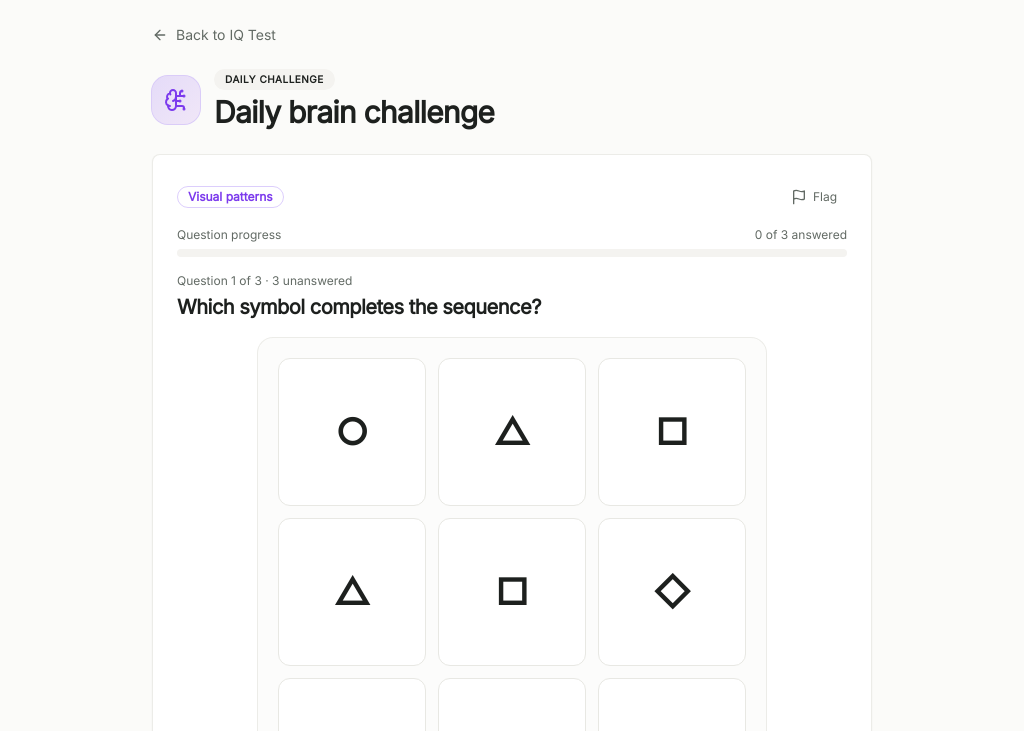
BrainIQTest page › starts the assessment, allows selecting options, flagging, and completing
The width and height of the screenshot is (1024, 731).
Earlier steps of the test are not shown.
Check: the heading "Which symbol completes the sequence?" is shown, box [177, 295, 541, 319]
Check: the text "Question progress" is shown, box [177, 227, 281, 243]
# Flag question for review
Click the button "Flag" at x=814, y=197, box [781, 179, 847, 215]
(page scrolled)
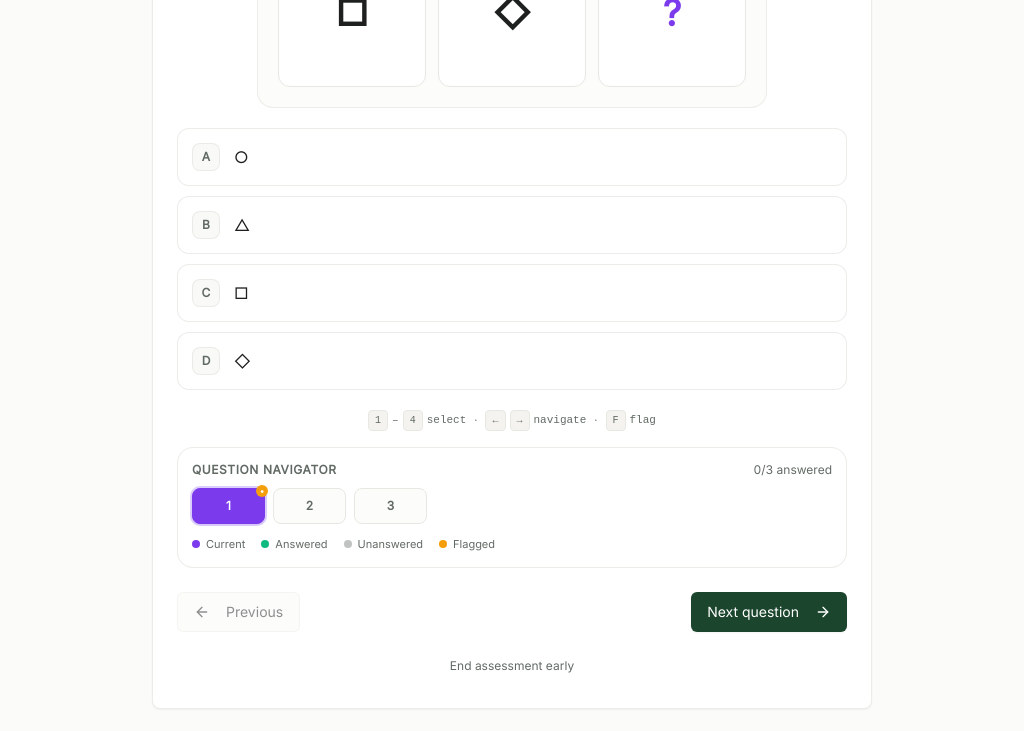
# Select option D (diamond: index 3)
Click the button "D ◇" at x=206, y=361, box [177, 332, 847, 390]
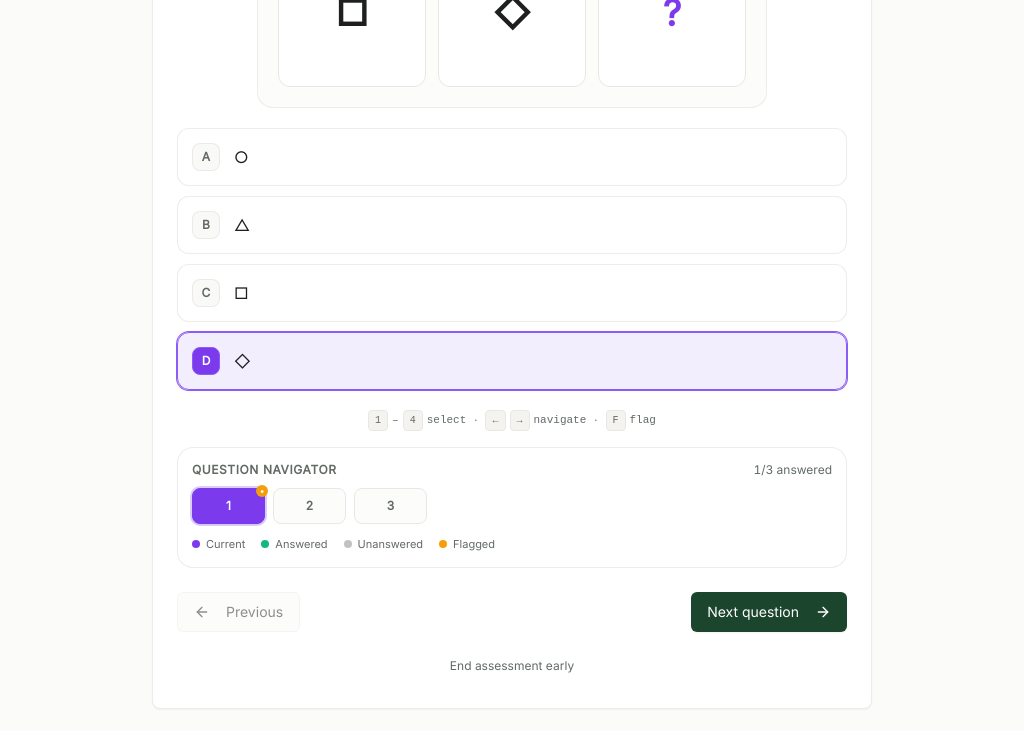
Check: the button "D ◇" is pressed, box [177, 332, 847, 390]
# Advance to next question
Click the button "Next question" at x=769, y=612, box [691, 592, 847, 632]
(page scrolled)
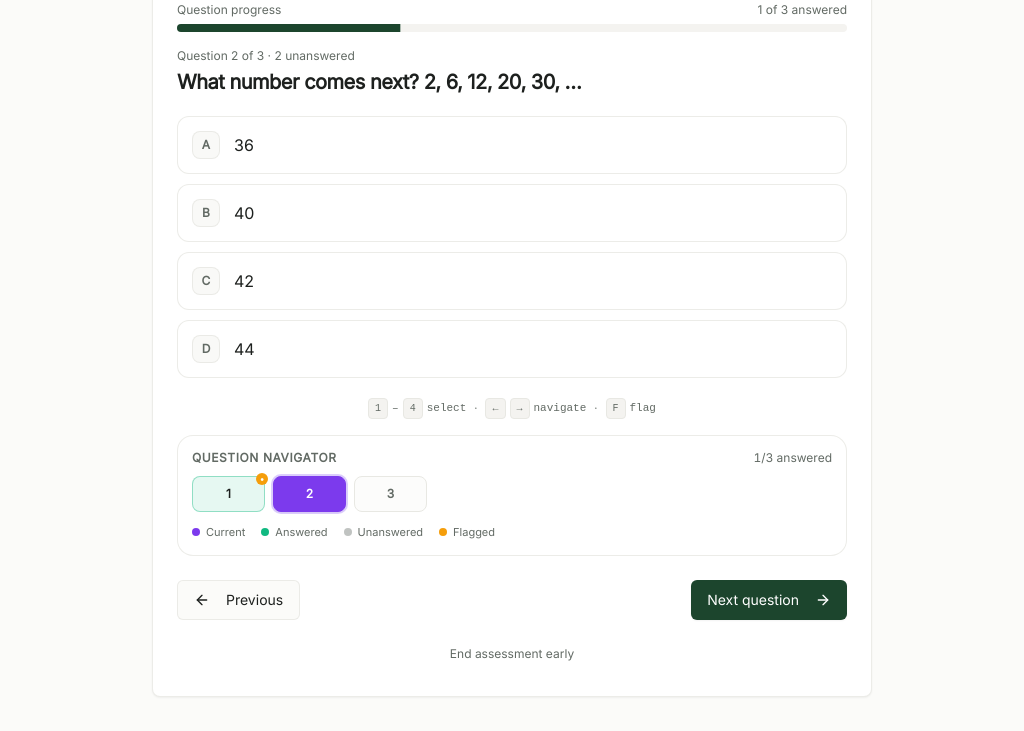
Check: the heading "What number comes next? 2, 6, 12, 20, 30, …" is shown, box [177, 70, 581, 94]
# Test keyboard navigation: press 'C' or '3' for 42 (index 2)
Press c
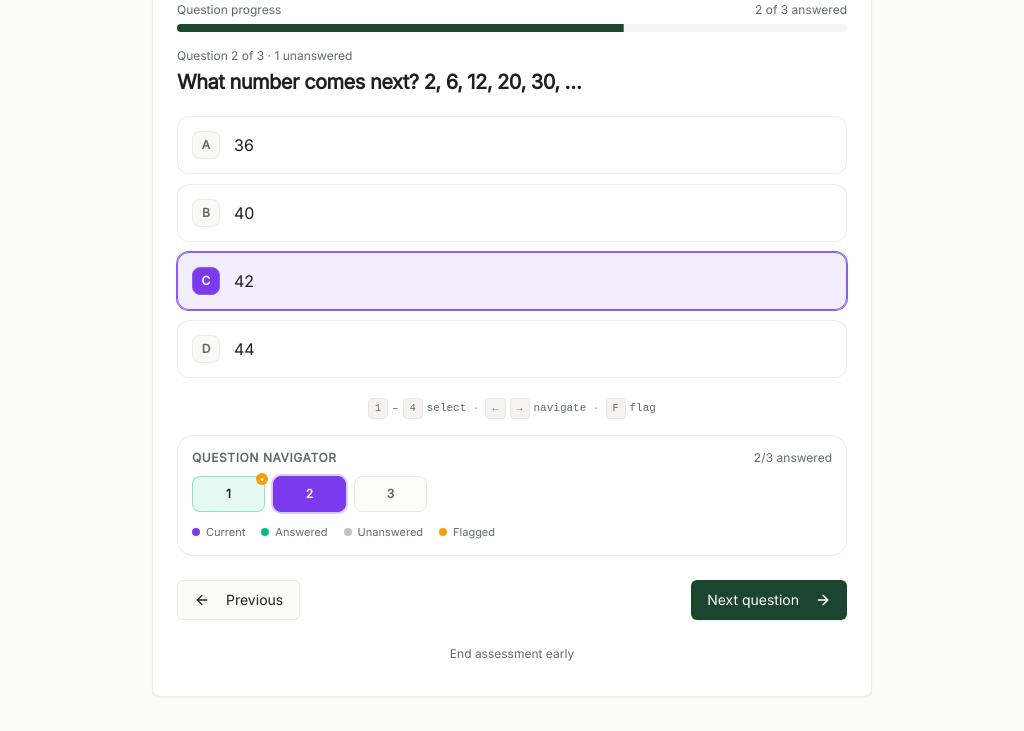
# Advance to next question via ArrowRight
Press ArrowRight
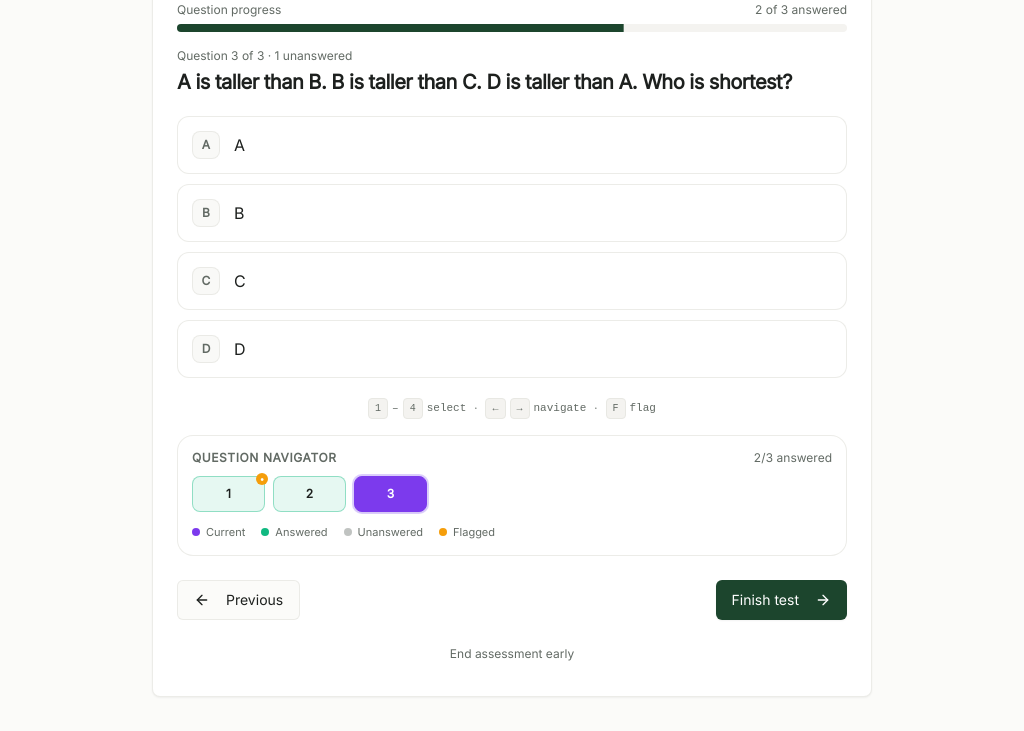
# Question 3: Finish test
Click the button "Finish test" at x=781, y=600, box [716, 580, 847, 620]
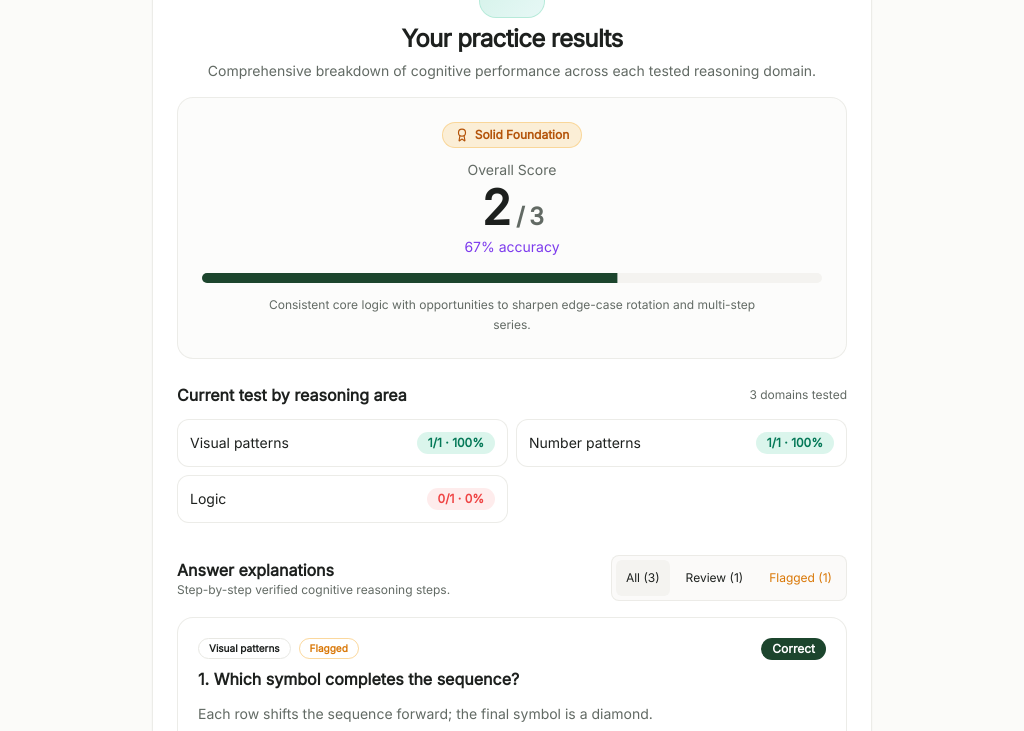
Check: the heading "Your practice results" is shown, box [401, 24, 623, 53]
Check: the text "Overall Score" is shown, box [468, 161, 556, 178]
Check: the heading "Answer explanations" is shown, box [177, 560, 334, 580]
